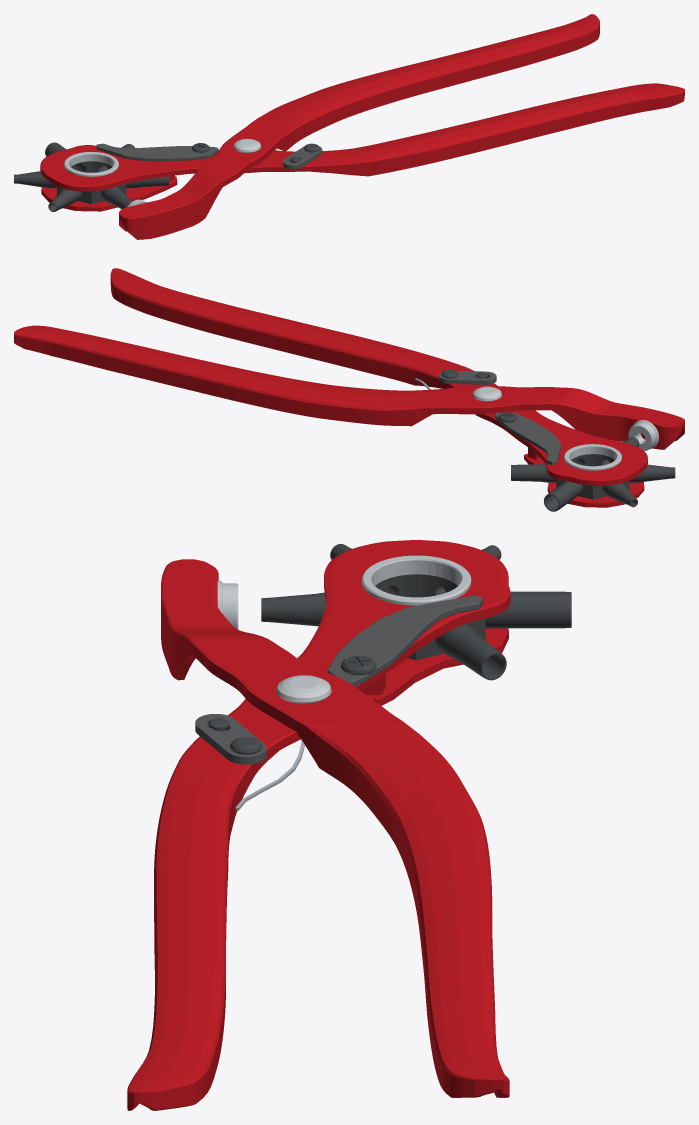
3 views of the same model, one above another, from view 1: azimuth 30°, elevation 25°; view 2: azimuth 150°, elevation 25°; view 3: azimuth 270°, elevation 25° (orthographic). The views are drawn at different scales.
Visible parts, largest first — view 1: die_arm_and_upper_grip, turret_arm_and_lower_grip, crescent_indexing_lever, lower_turret_cheek, upper_annular_head_bearing, indexed_punch_carrier, slotted_storage_catch, hollow_punch_5, hollow_punch_6, hollow_punch_1; view 2: die_arm_and_upper_grip, turret_arm_and_lower_grip, crescent_indexing_lever, upper_annular_head_bearing, lower_turret_cheek, indexed_punch_carrier, hollow_punch_4, hollow_punch_3, opposing_pierced_die, slotted_storage_catch, hollow_punch_6, hollow_punch_5; view 3: die_arm_and_upper_grip, turret_arm_and_lower_grip, crescent_indexing_lever, upper_annular_head_bearing, hollow_punch_4, hollow_punch_3, lower_turret_cheek, indexed_punch_carrier, hollow_punch_1, slotted_storage_catch, main_pivot_rivet.
Part boxes in pixels (x1=…): die_arm_and_upper_grip: x1=119, y1=14, x2=599, y2=239; turret_arm_and_lower_grip: x1=40, y1=83, x2=684, y2=191; crescent_indexing_lever: x1=96, y1=143, x2=218, y2=161; lower_turret_cheek: x1=41, y1=176, x2=177, y2=211; upper_annular_head_bearing: x1=64, y1=152, x2=118, y2=176; indexed_punch_carrier: x1=57, y1=161, x2=126, y2=204; slotted_storage_catch: x1=282, y1=146, x2=322, y2=169; hollow_punch_5: x1=14, y1=171, x2=56, y2=188; hollow_punch_6: x1=48, y1=189, x2=81, y2=211; hollow_punch_1: x1=101, y1=186, x2=132, y2=209; die_arm_and_upper_grip: x1=14, y1=325, x2=684, y2=449; turret_arm_and_lower_grip: x1=110, y1=268, x2=647, y2=485; crescent_indexing_lever: x1=495, y1=412, x2=561, y2=465; upper_annular_head_bearing: x1=564, y1=444, x2=621, y2=470; lower_turret_cheek: x1=524, y1=453, x2=644, y2=507; indexed_punch_carrier: x1=556, y1=454, x2=629, y2=499; hollow_punch_4: x1=544, y1=481, x2=582, y2=511; hollow_punch_3: x1=511, y1=463, x2=556, y2=482; opposing_pierced_die: x1=628, y1=420, x2=658, y2=450; slotted_storage_catch: x1=438, y1=370, x2=496, y2=384; hollow_punch_6: x1=629, y1=464, x2=675, y2=482; hollow_punch_5: x1=603, y1=483, x2=637, y2=507; die_arm_and_upper_grip: x1=161, y1=559, x2=509, y2=1097; turret_arm_and_lower_grip: x1=127, y1=540, x2=510, y2=1110; crescent_indexing_lever: x1=327, y1=595, x2=482, y2=686; upper_annular_head_bearing: x1=361, y1=555, x2=471, y2=605; hollow_punch_4: x1=485, y1=591, x2=571, y2=628; hollow_punch_3: x1=435, y1=623, x2=506, y2=680; lower_turret_cheek: x1=367, y1=628, x2=508, y2=705; indexed_punch_carrier: x1=375, y1=574, x2=485, y2=660; hollow_punch_1: x1=261, y1=592, x2=326, y2=626; slotted_storage_catch: x1=195, y1=714, x2=266, y2=764; main_pivot_rivet: x1=276, y1=675, x2=331, y2=703.
Size of the model in its own units: 0.222 by 0.0143 by 0.073.
